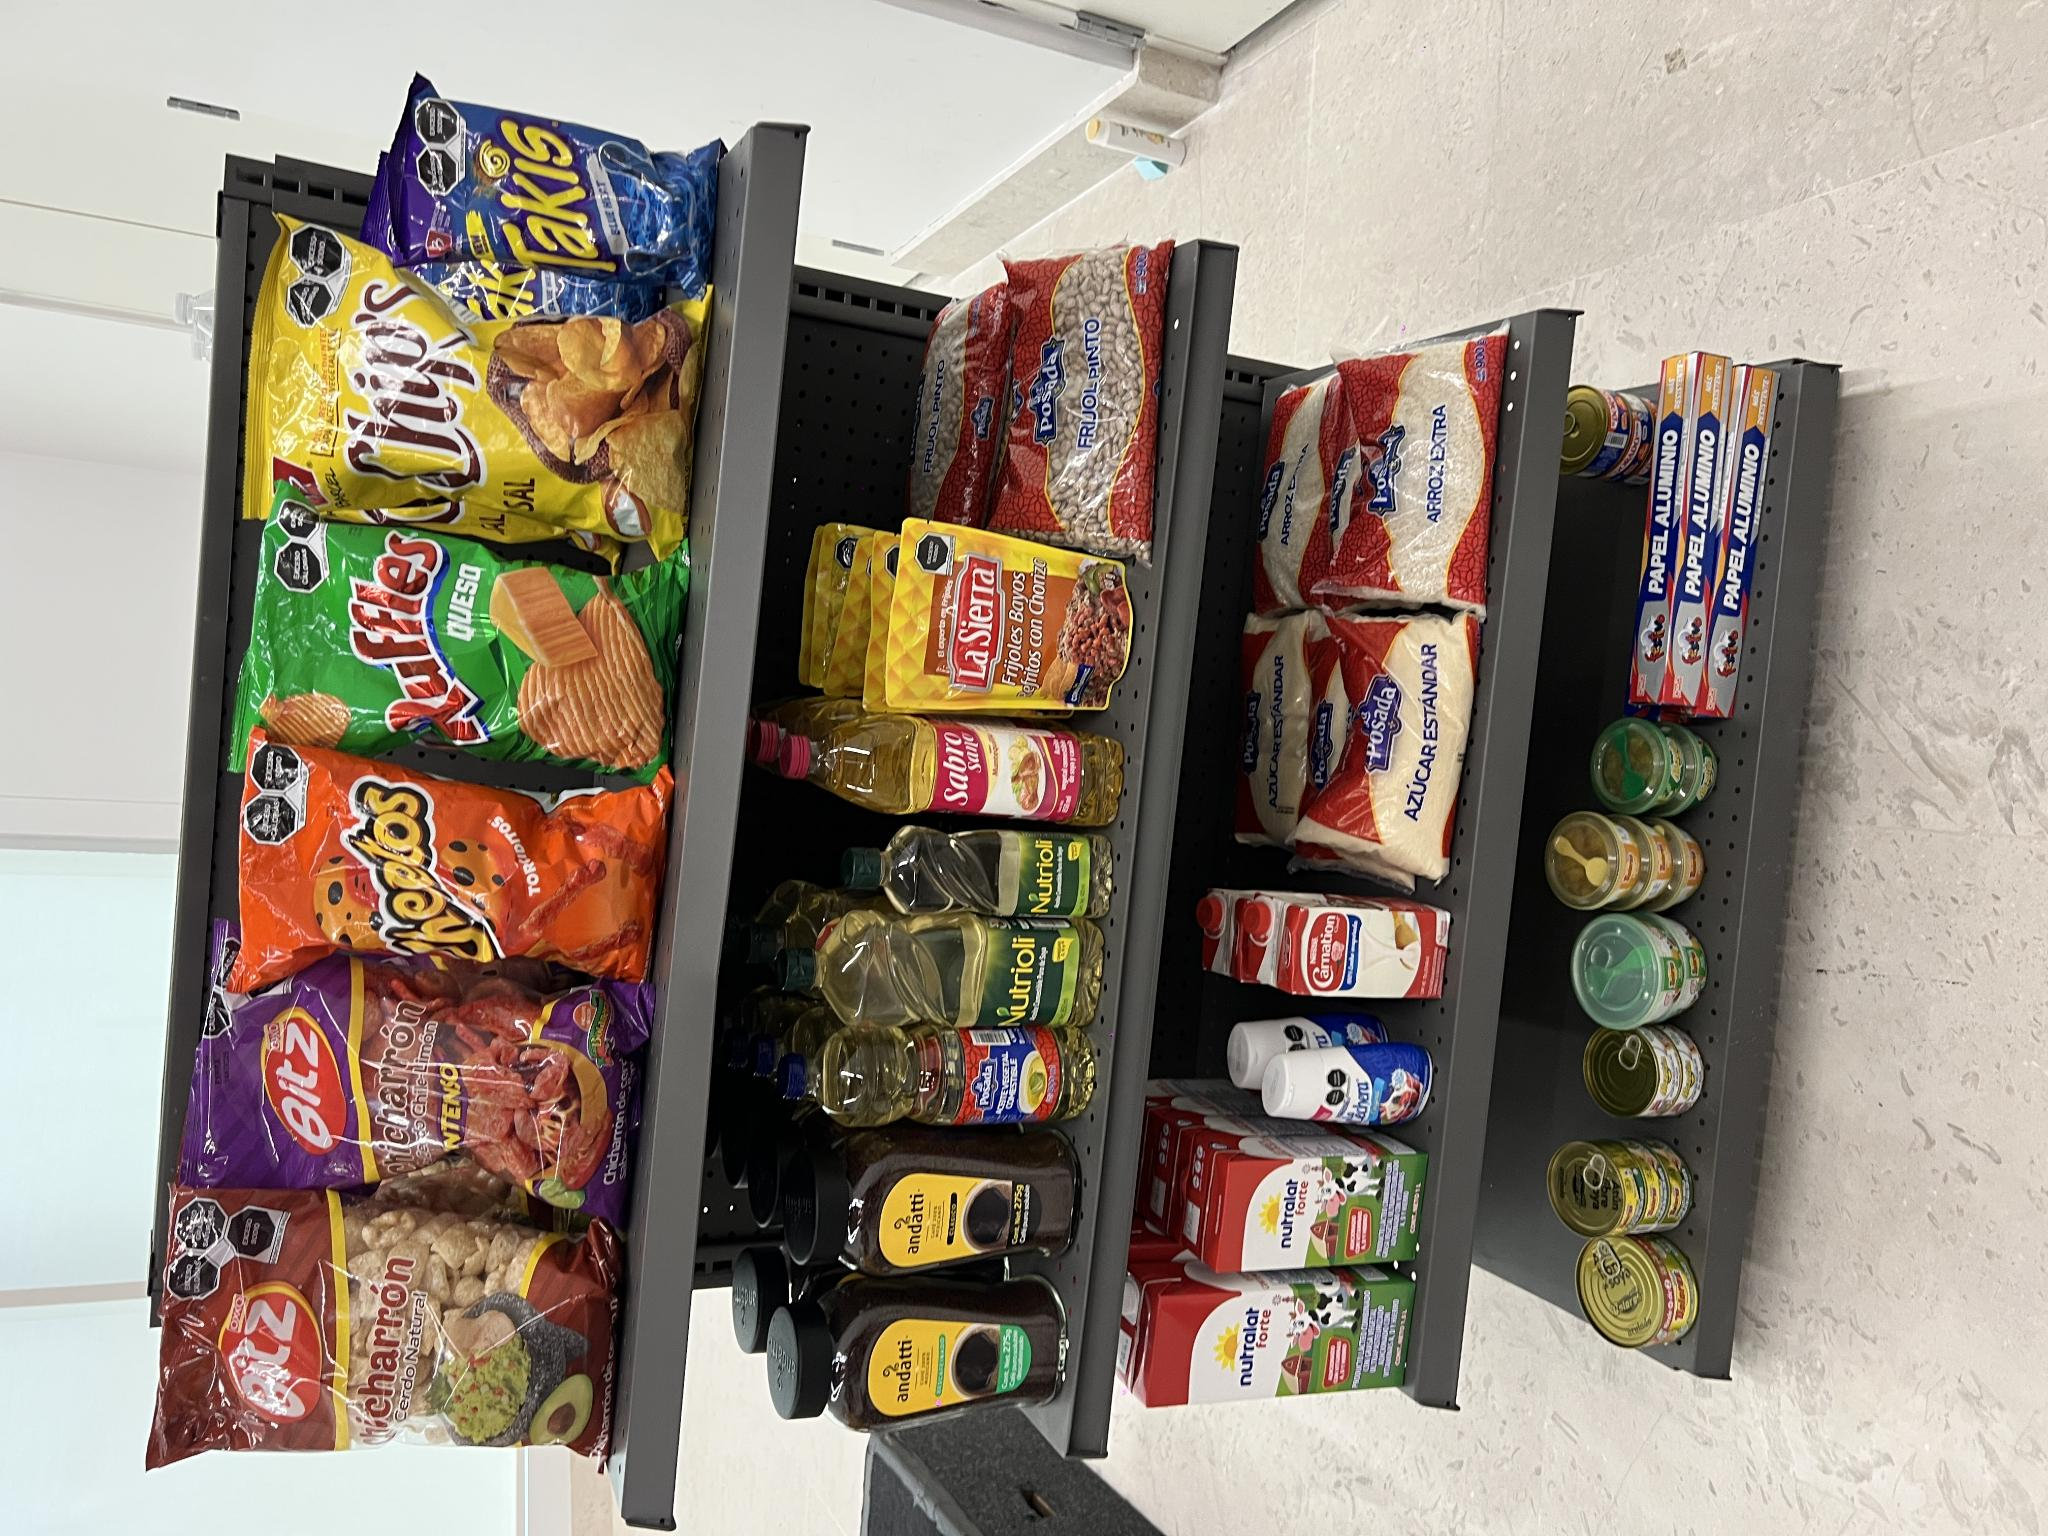aceite_nutrioli_400ml: (613, 854, 708, 1107)
aceite_nutrioli_850ml: (503, 795, 622, 1104)
aceite_posada: (403, 786, 505, 1089)
aceite_saborsano: (713, 787, 822, 1121)
andatti: (103, 792, 244, 1065), (255, 810, 376, 1078)
arroz_laposada: (927, 1328, 1208, 1504)
azucar_laposada: (661, 1299, 927, 1473)
carnation: (540, 1292, 631, 1452)
cheetos: (563, 231, 797, 665)
chicharron_bitz_intenso: (327, 186, 542, 647)
chicharron_bitz_natural: (69, 148, 350, 618)
chips_sal: (992, 248, 1316, 705)
frijol_laposada: (982, 991, 1293, 1168)
frijol_lasierra: (821, 887, 1019, 1139)
lalechera: (410, 1271, 485, 1436)
leche_nutralatforte: (132, 1149, 258, 1415), (266, 1217, 377, 1426)
ruffles: (769, 236, 1027, 682)
takis: (1261, 400, 1448, 721)
